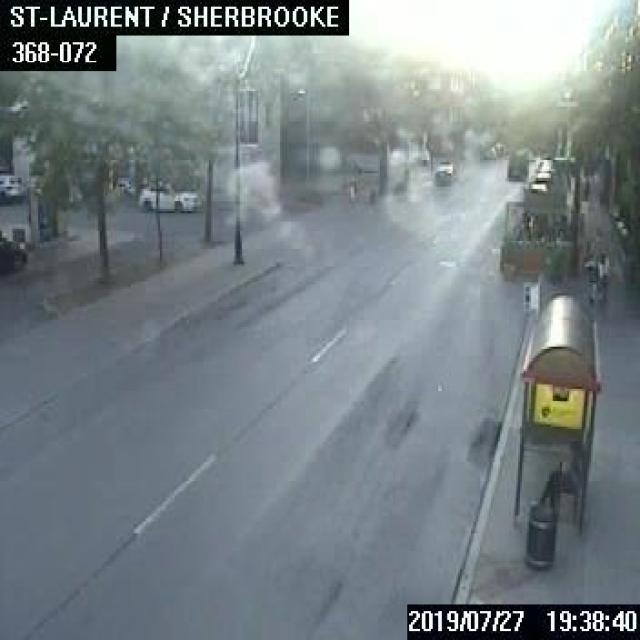pedestrian: (529, 438, 582, 518), (596, 250, 610, 307), (580, 252, 594, 304)
vehicle: (138, 181, 198, 212), (0, 232, 25, 270), (0, 175, 24, 201), (507, 149, 528, 178), (434, 158, 454, 182), (477, 142, 495, 160)
